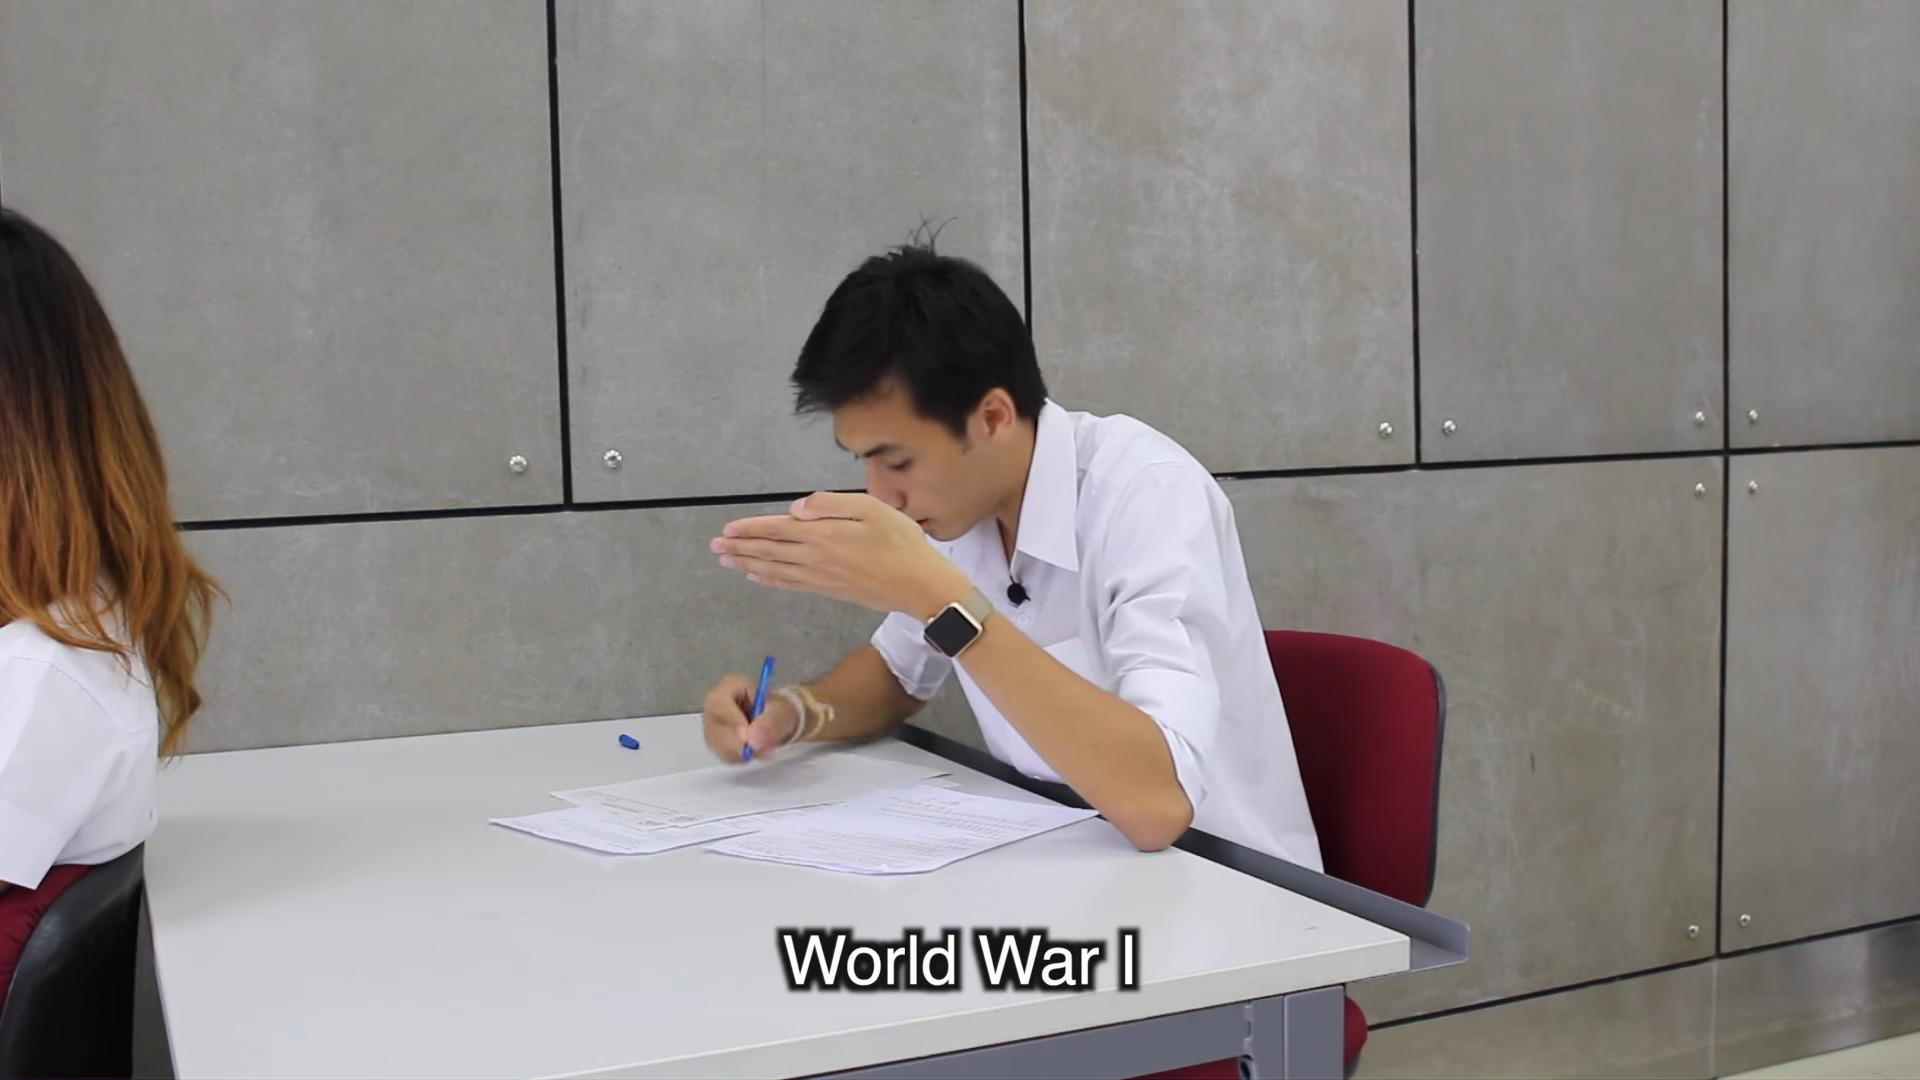cheating: (475, 195, 1345, 905)
